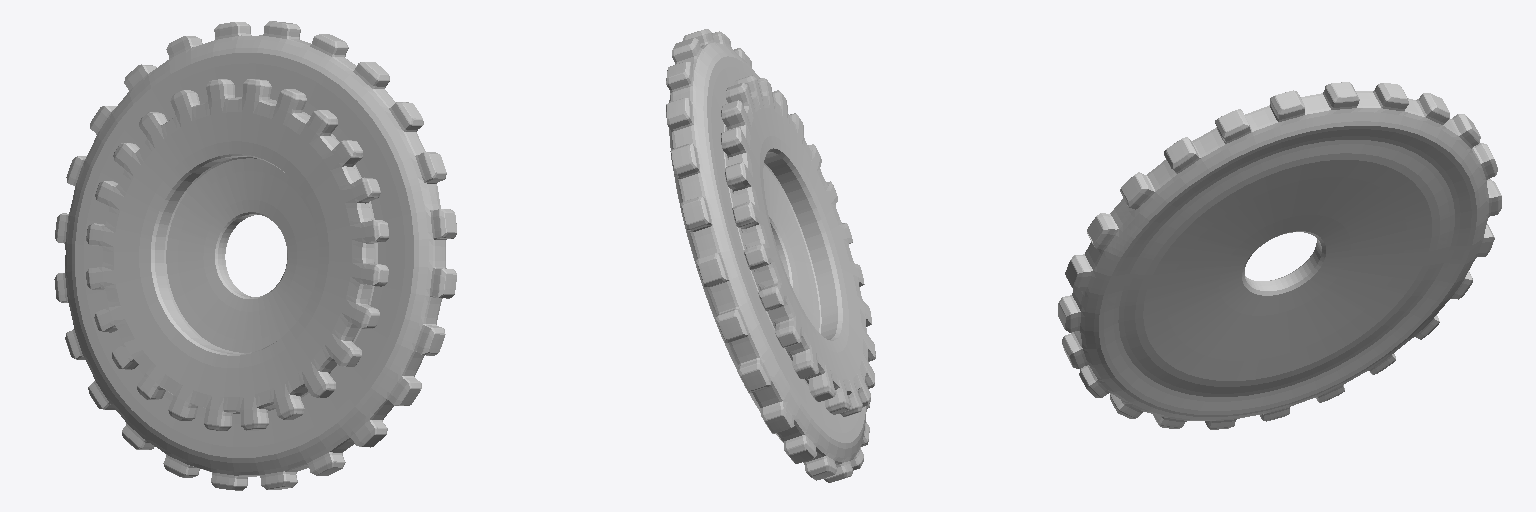
Rendered from gear.obj.
3 views of the same model, side by side, from view 1: azimuth 30°, elevation 25°; view 2: azimuth 150°, elevation 25°; view 3: azimuth 270°, elevation 25° (orthographic).
Visible parts, largest first — view 1: Torus.001; view 2: Torus.001; view 3: Torus.001.
Boxes of the visible parts, <box> form: Torus.001: <box>54,21,456,490</box>; Torus.001: <box>666,29,875,482</box>; Torus.001: <box>1058,82,1501,429</box>.
Bounding box in the file's own units: 1.47 × 2.43 × 2.45.